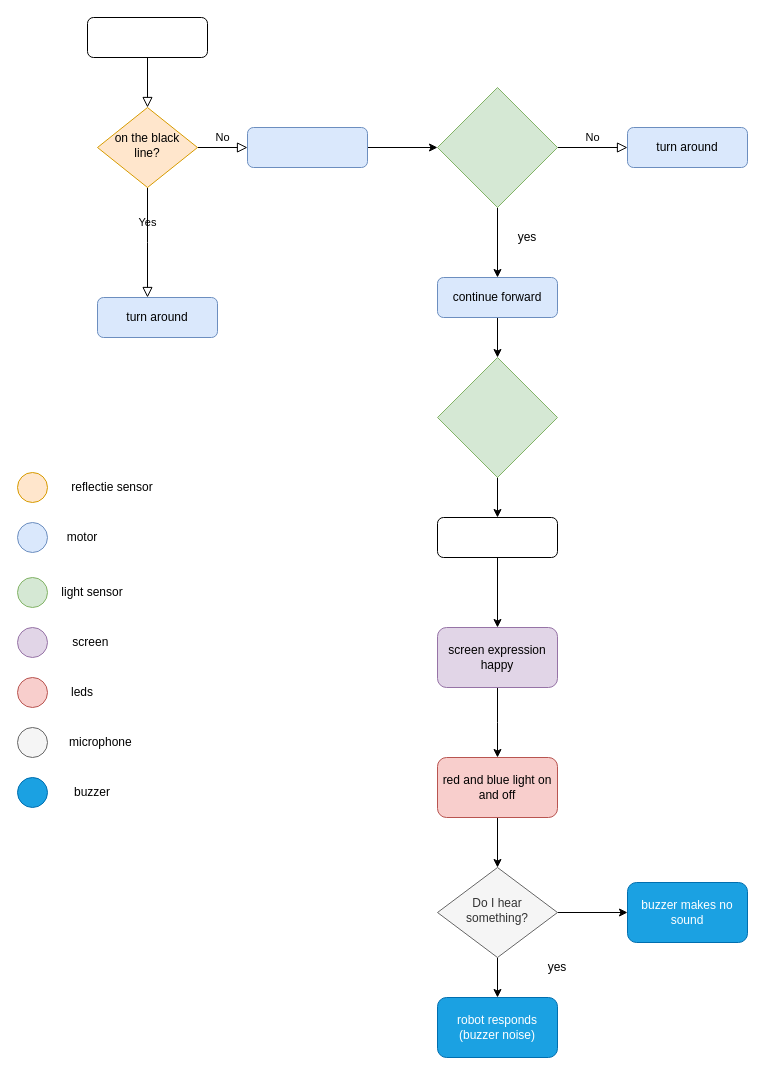
This 765x1075 diagram has some shape labels left out. Here are the shapes that lost their labels. From the top down, the centre of each, then its label:
At [147,37]: "start".
At [307,147]: "go forward".
At [497,147]: "can Light sensor see light? (>=400)".
At [497,417]: "is the light sensor >700".
At [497,537]: "robot is found".
